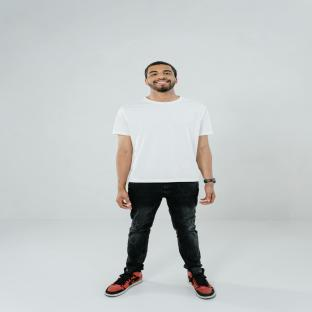Human: (105, 61, 216, 299)
